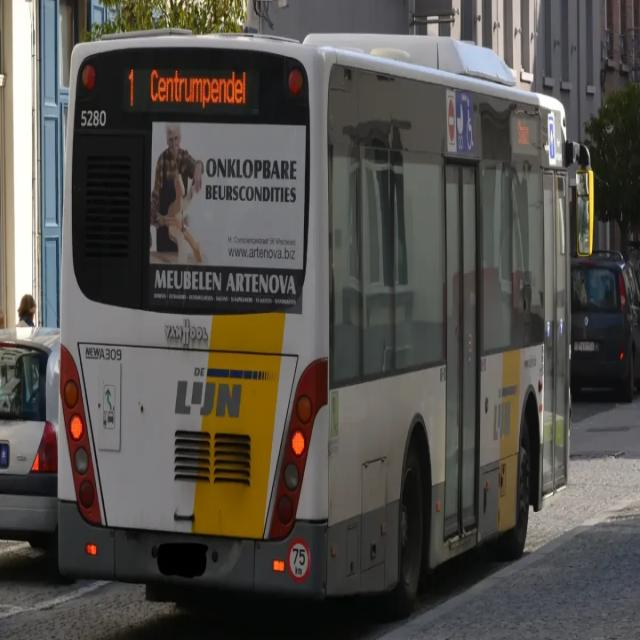bus-number: (125, 68, 138, 110)
